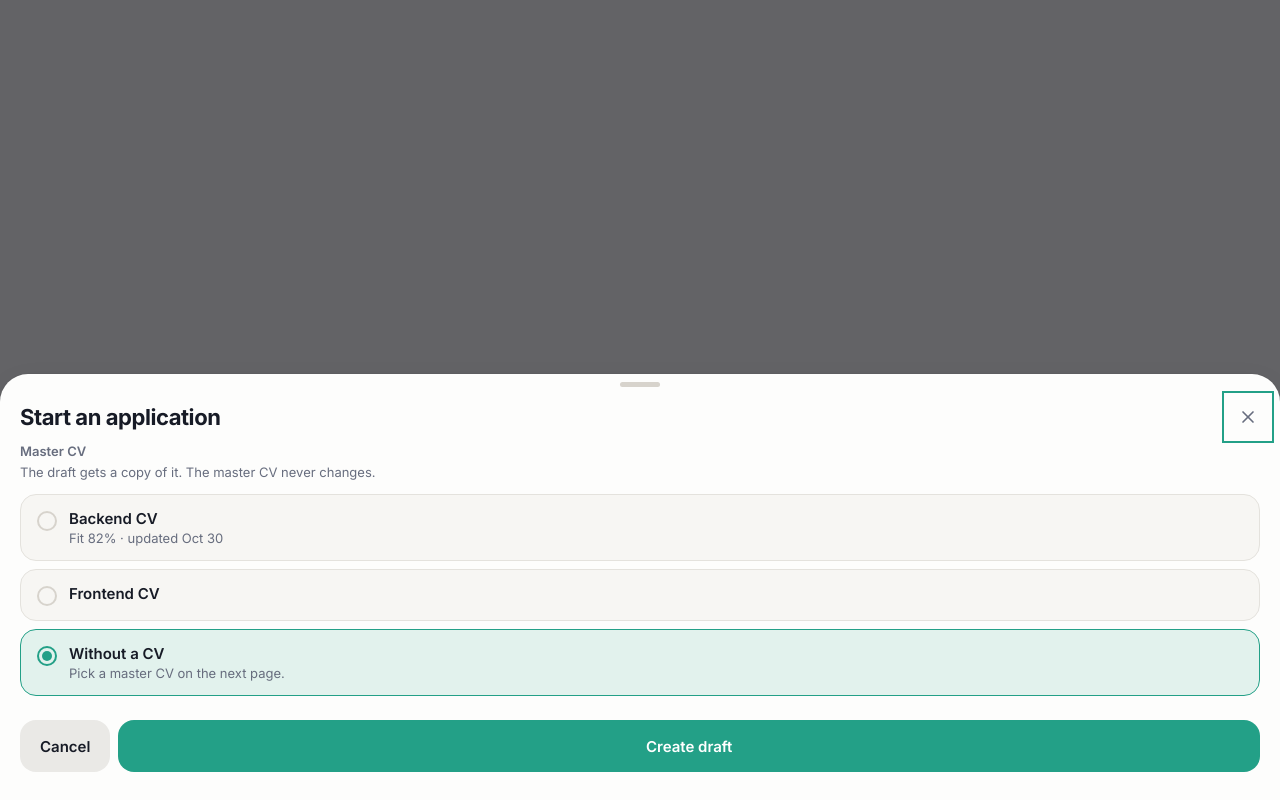
Test case: StartApplicationSheetView › shows the CV copy choice once a CV is picked, Verbatim copy first
Later steps or results of the test are not shown.
Click the radio button labelled "Backend CV": (113, 518) [20,494,1260,561]
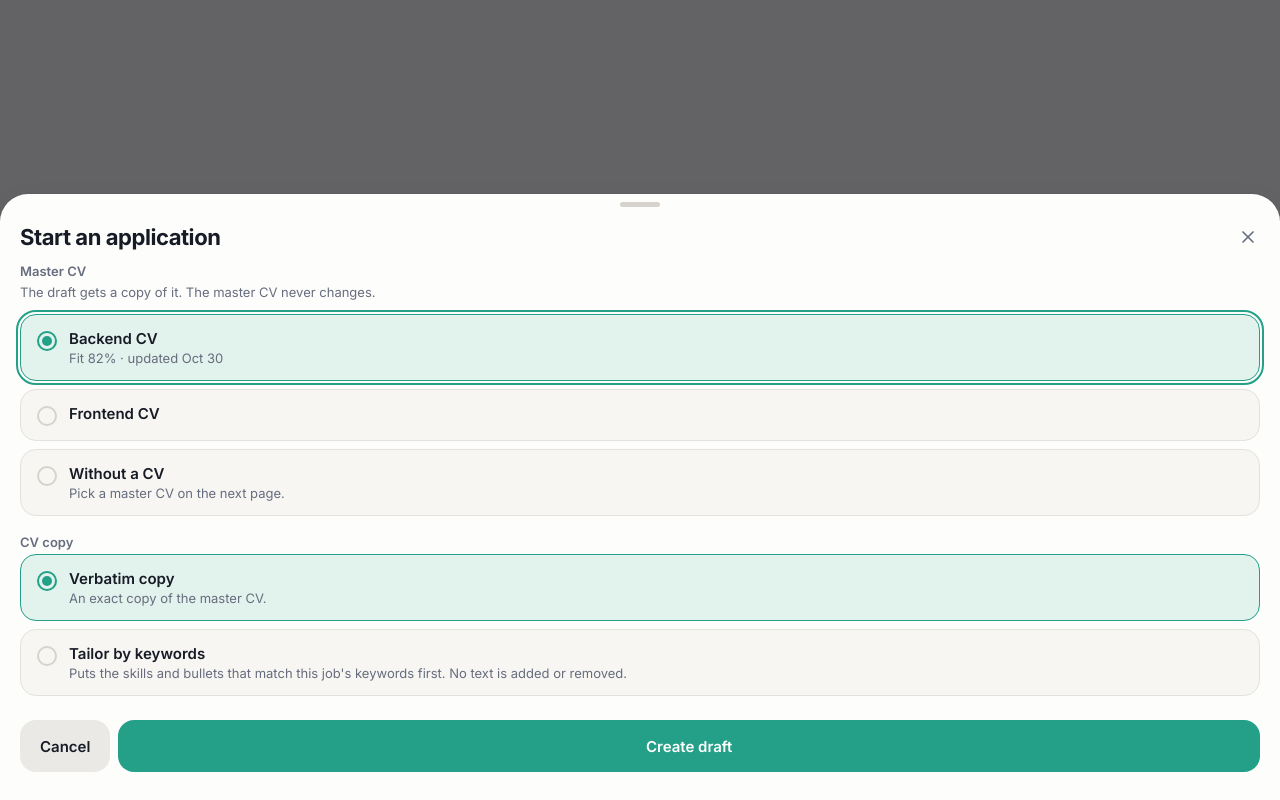
Result: the radio button labelled "Verbatim copy" is checked at [20,554,1260,621]
